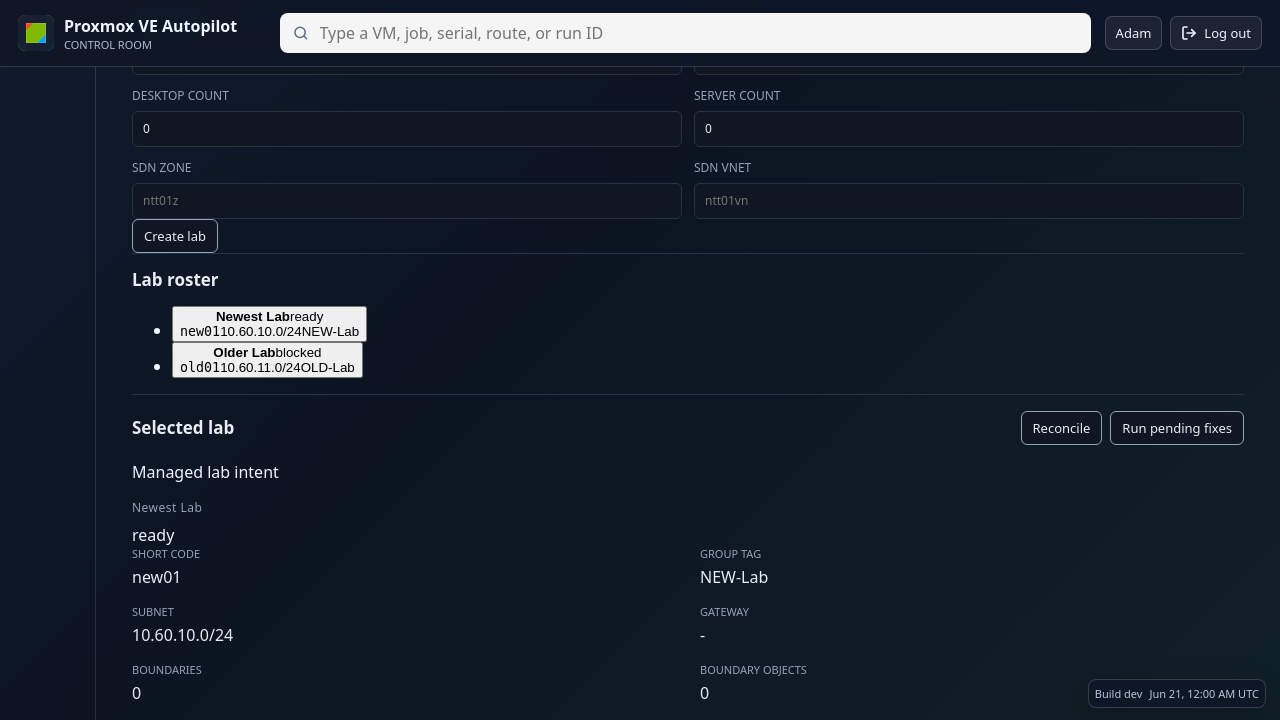
Test: LabsPage › selects a non-default lab and refetches the page with selected_lab_id
The width and height of the screenshot is (1280, 720).
(page scrolled)
Click the button with aria-label "Select Older Lab" at point(267, 360), box [172,342,363,378]
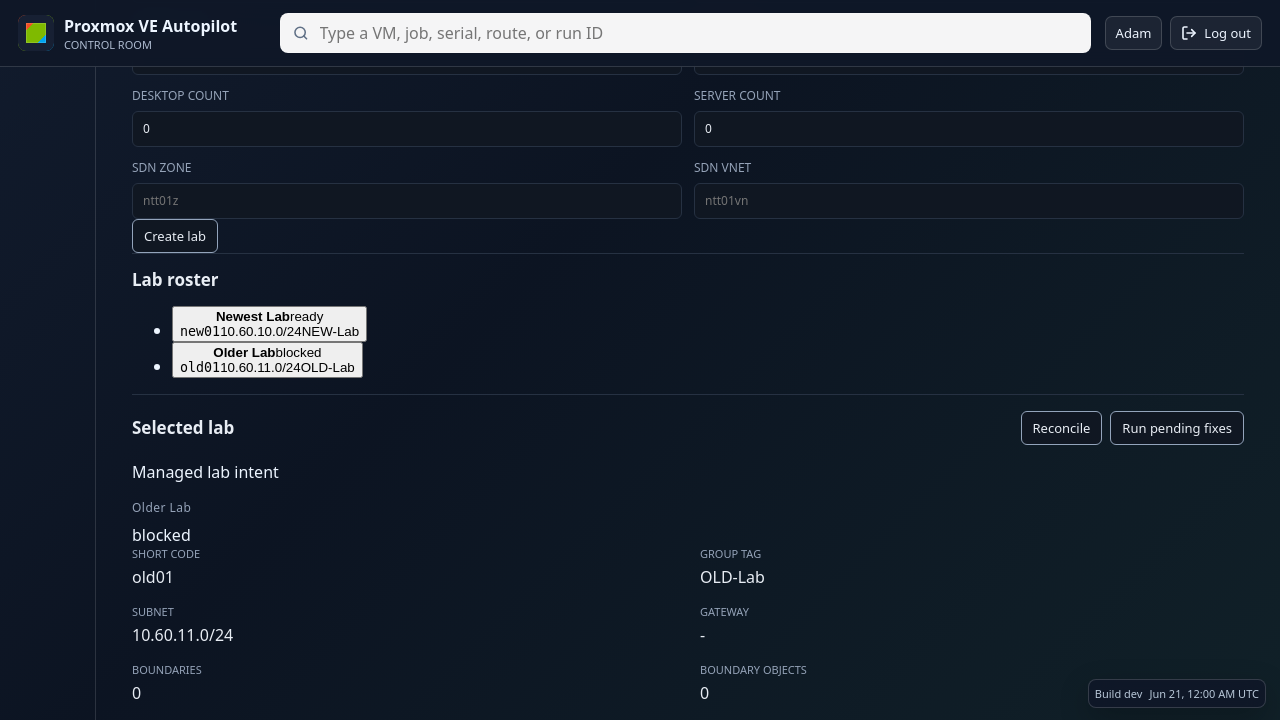
Expected: the heading "Older Lab" is shown, [132,499,191,516]
